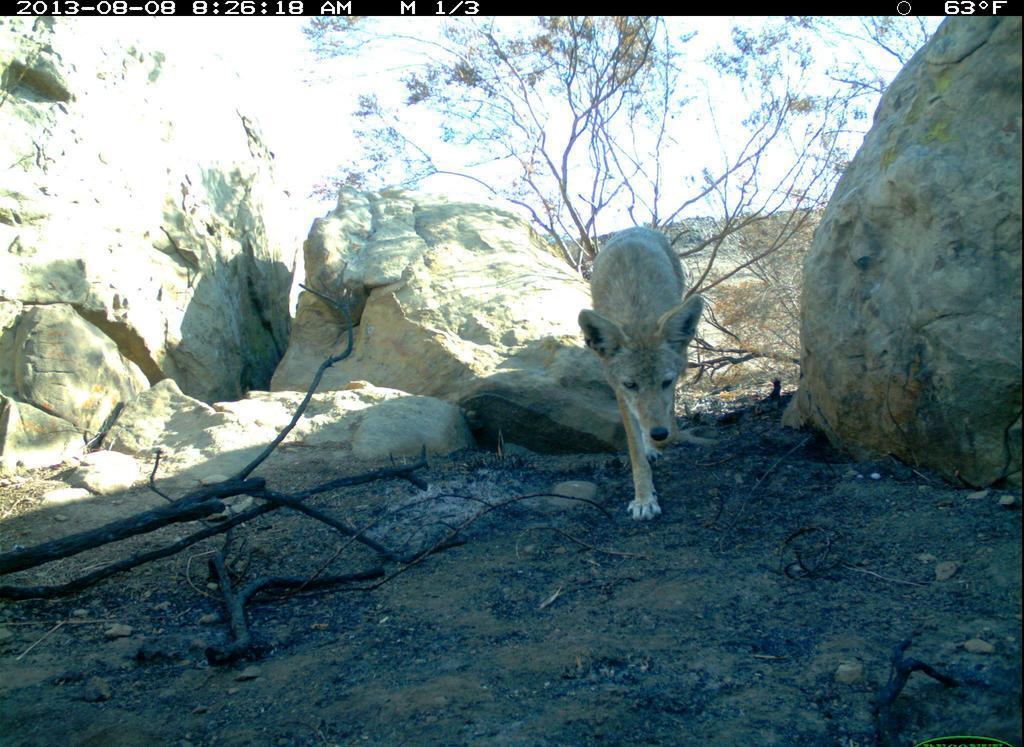coyote: (579, 218, 706, 523)
